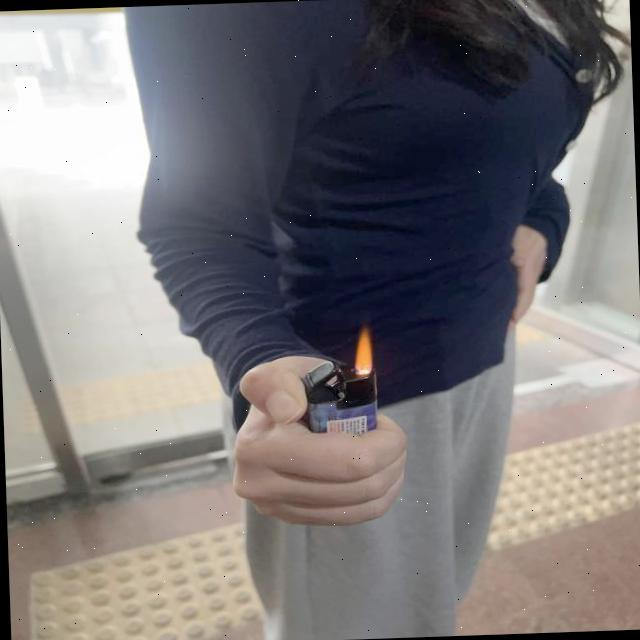fire: (351, 330, 375, 370)
